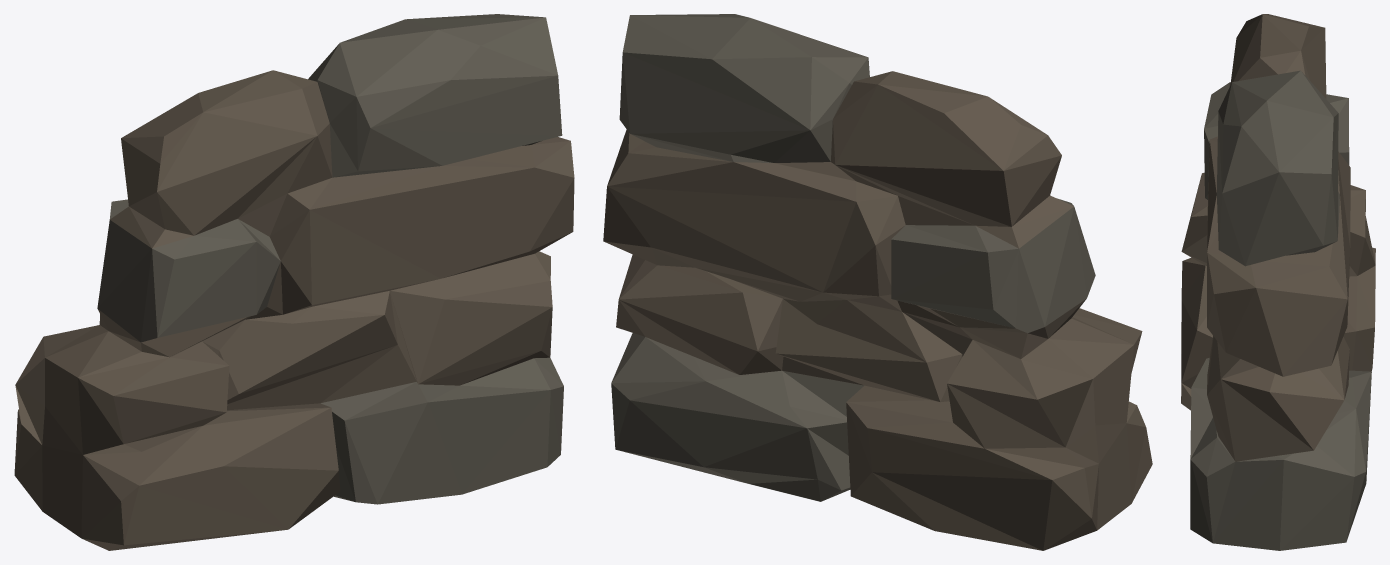
Rendered from synty-prop-stonewall-03.gltf.
The picture shows the model from 3 angles, left to right: view 1: azimuth 30°, elevation 25°; view 2: azimuth 150°, elevation 25°; view 3: azimuth 270°, elevation 25°; orthographic projection. The views are drawn at different scales.
Visible parts, largest first — view 1: SM_Prop_StoneWall_03; view 2: SM_Prop_StoneWall_03; view 3: SM_Prop_StoneWall_03.
Boxes of the visible parts, x1=… form: SM_Prop_StoneWall_03: x1=14, y1=14, x2=574, y2=550; SM_Prop_StoneWall_03: x1=603, y1=14, x2=1152, y2=550; SM_Prop_StoneWall_03: x1=1181, y1=14, x2=1375, y2=550.
Size of the model in its own units: 1.33 by 1.08 by 0.4678.
1 material, 1 textured.
